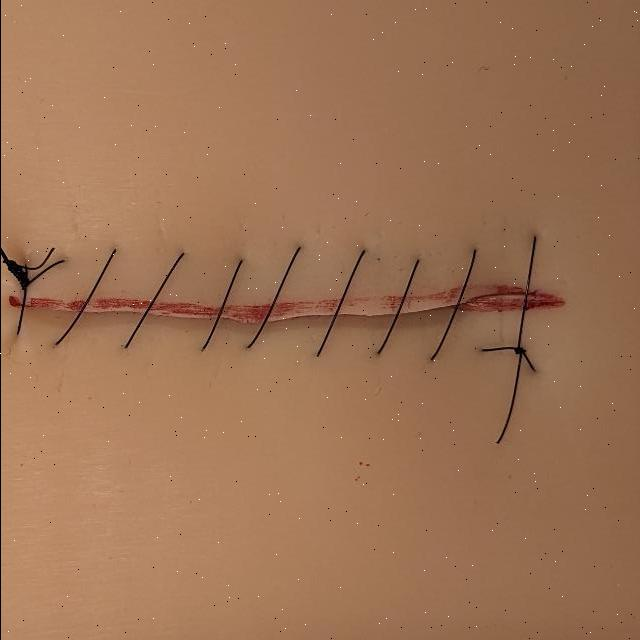knot_good: (507, 333, 533, 377)
knot_tight: (7, 233, 43, 285)
suture_good: (110, 238, 200, 359), (238, 241, 310, 359), (309, 243, 373, 366), (369, 251, 426, 364), (192, 251, 250, 359), (513, 231, 552, 343)
suture_loose: (43, 242, 126, 356), (416, 241, 489, 366)
suture_tight: (8, 288, 31, 377)
